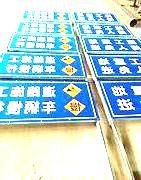sign: (1, 83, 90, 120), (1, 54, 86, 77), (101, 80, 141, 116), (11, 33, 77, 51), (90, 54, 141, 76), (83, 37, 141, 51), (78, 23, 130, 35), (21, 22, 73, 33), (24, 10, 68, 21), (76, 12, 117, 22)
